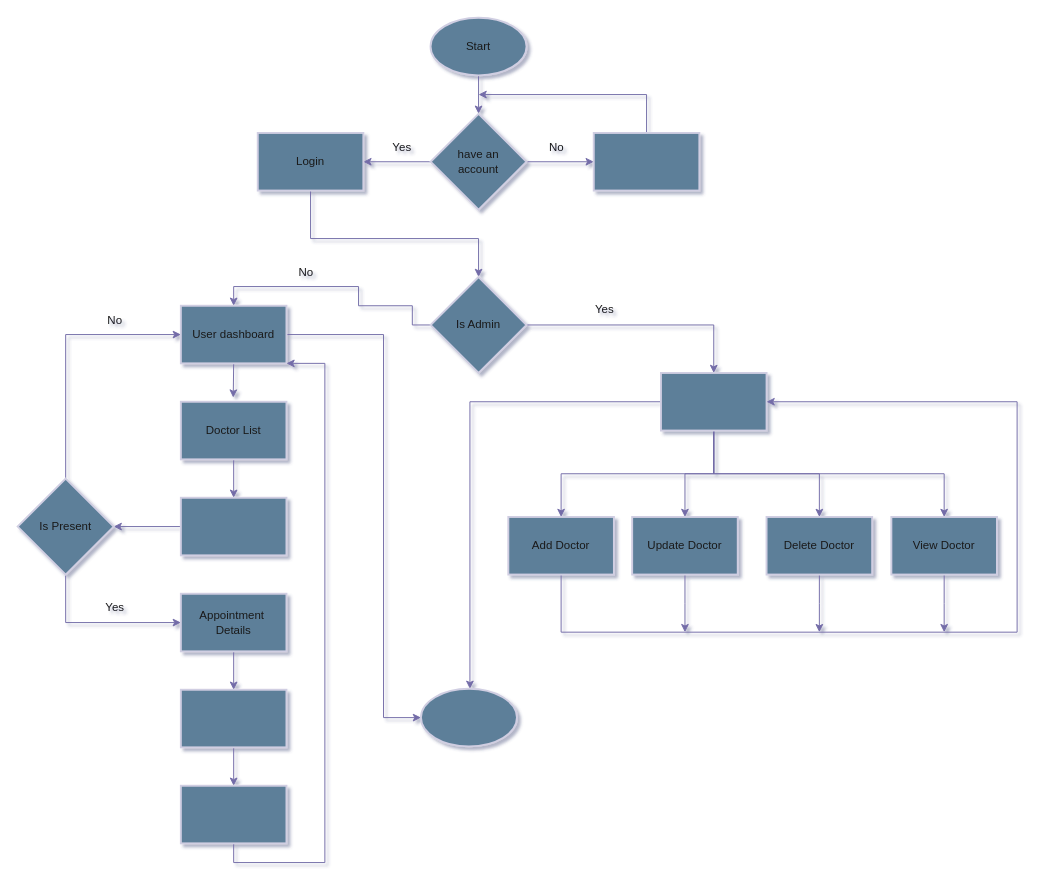
The diagram is 1047 pixels wide and 893 high, and some of its shapes have lost their labels. Each missing label, with the centre of its shape:
"Add appointmrnt" belongs at (233,718).
"Admin dashboard" belongs at (713,401).
"Rate Doctor" belongs at (233,814).
"Search Doctor" belongs at (233,526).
"Sign up" belongs at (646,161).
"Stop" belongs at (468,717).
